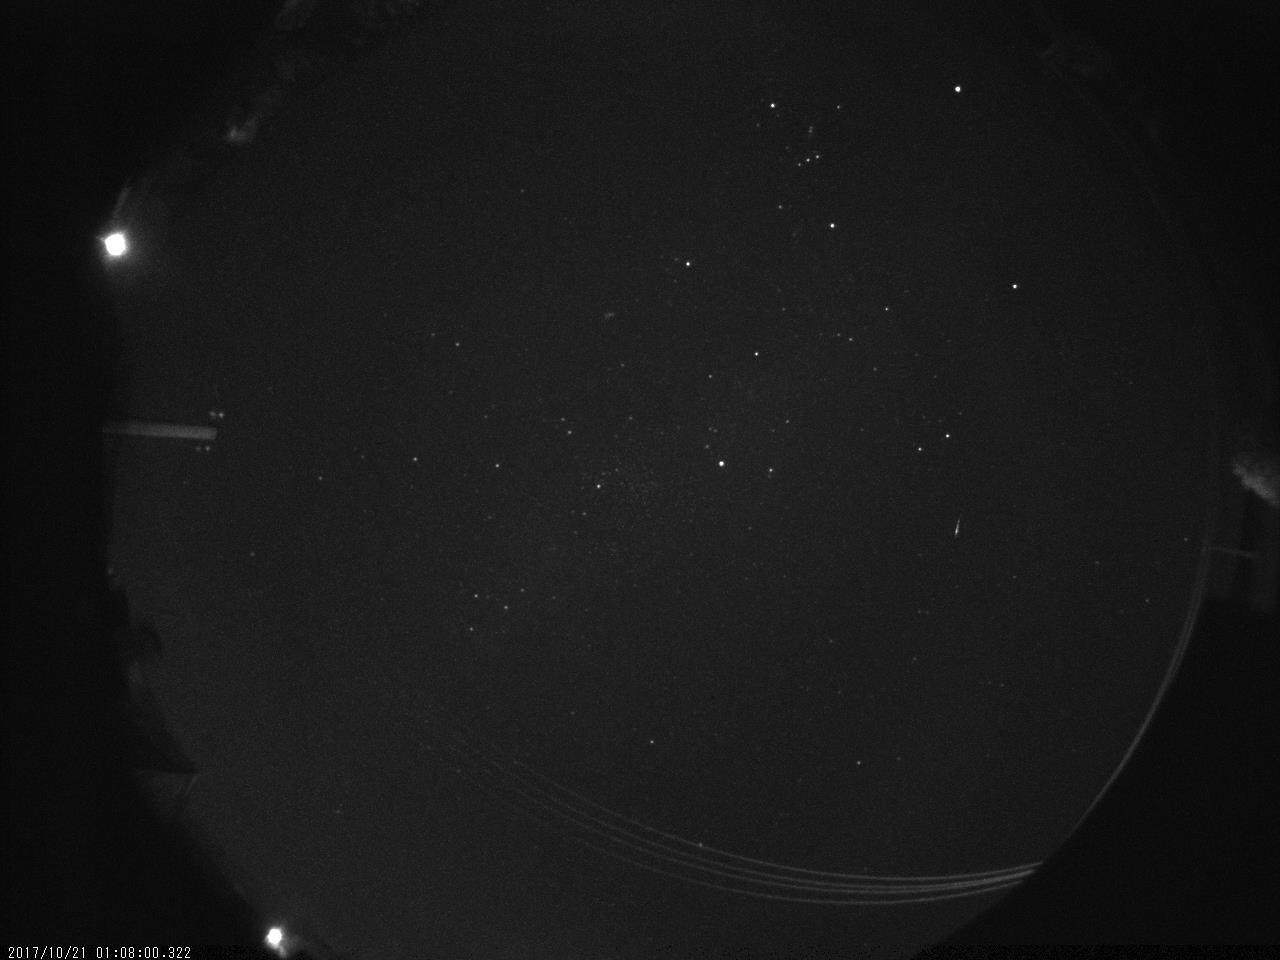meteor: (947, 514, 967, 541)
